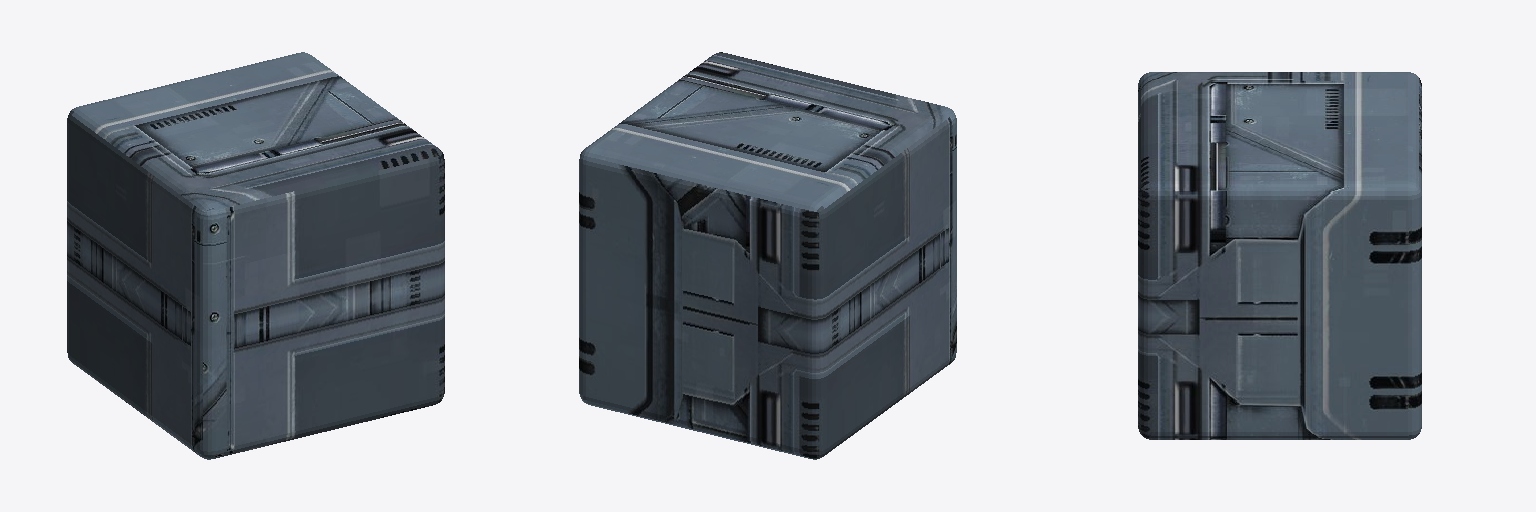
3 renders of one model, left to right at view 1: azimuth 30°, elevation 25°; view 2: azimuth 150°, elevation 25°; view 3: azimuth 270°, elevation 25°, orthographic.
Visible parts, largest first — view 1: Cube_Finished_Cube.001; view 2: Cube_Finished_Cube.001; view 3: Cube_Finished_Cube.001.
Boxes of the visible parts, x1,y1,x2,y2 form: Cube_Finished_Cube.001: [67, 52, 444, 459]; Cube_Finished_Cube.001: [579, 52, 956, 459]; Cube_Finished_Cube.001: [1138, 72, 1421, 439].
Size of the model in its own units: 2 by 2 by 2.
Materials: 1 (1 with a texture image).